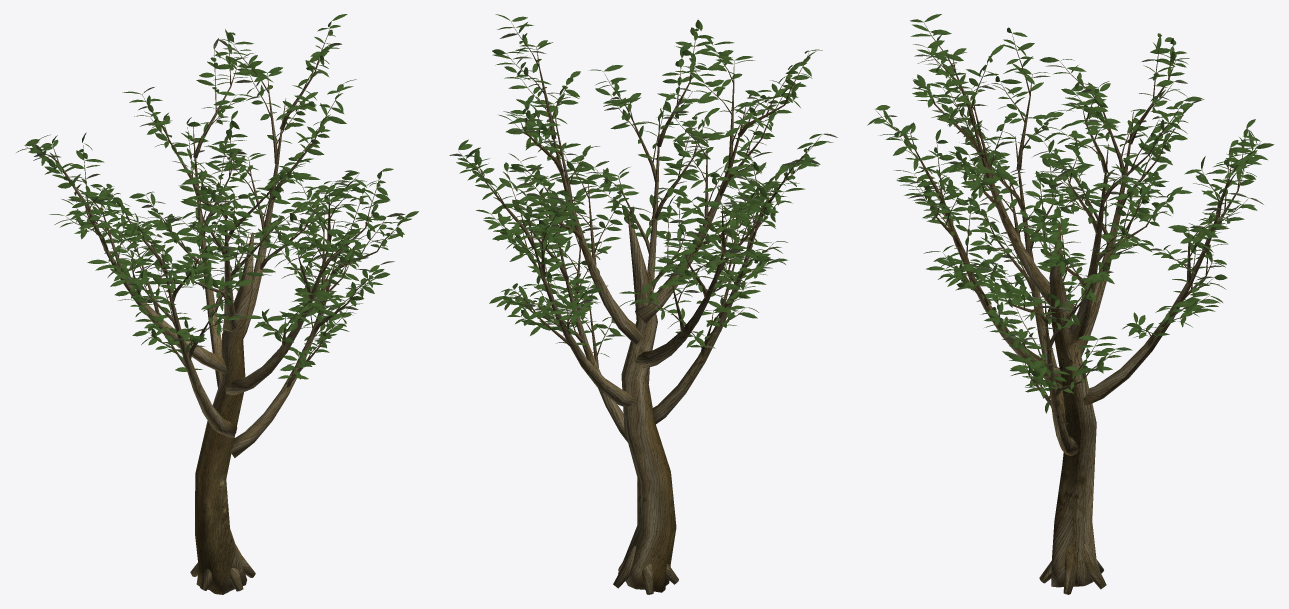
Rendered from olive-detailed.glb.
3 renders of one model, left to right at view 1: azimuth 30°, elevation 25°; view 2: azimuth 150°, elevation 25°; view 3: azimuth 270°, elevation 25°, orthographic. The views are drawn at different scales.
Visible parts, largest first — view 1: Olive lanceolate curved leaves, Olive trunk boughs and fine shoots; view 2: Olive lanceolate curved leaves, Olive trunk boughs and fine shoots; view 3: Olive lanceolate curved leaves, Olive trunk boughs and fine shoots.
Boxes of the visible parts, x1,y1,x2,y2 form: Olive lanceolate curved leaves: (16, 14, 418, 379); Olive trunk boughs and fine shoots: (24, 20, 403, 594); Olive lanceolate curved leaves: (449, 14, 837, 357); Olive trunk boughs and fine shoots: (458, 22, 821, 594); Olive lanceolate curved leaves: (867, 14, 1274, 413); Olive trunk boughs and fine shoots: (875, 22, 1261, 594).
Bounding box in the file's own units: 1.36 × 2.11 × 1.39.
Materials: 2 (2 with a texture image).
